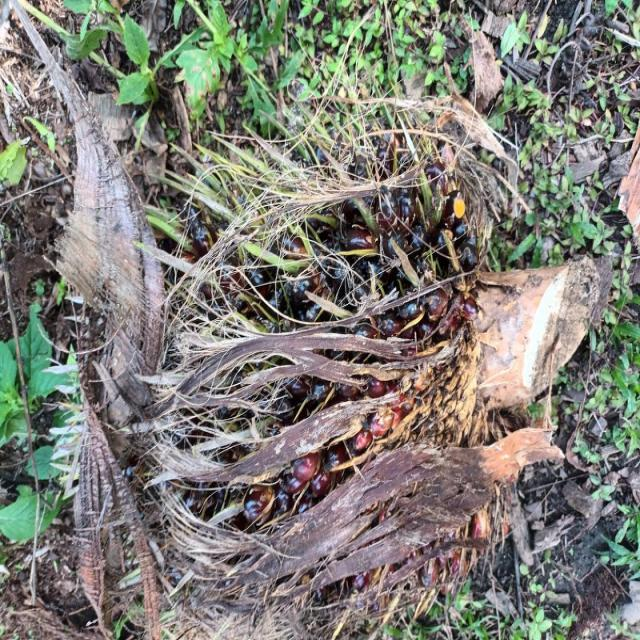fraksi 00: (116, 1, 572, 503)
